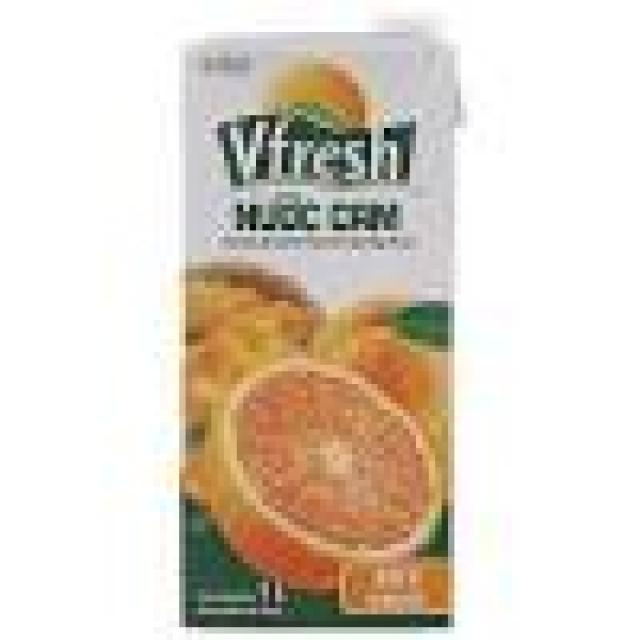non_white_jug: (19, 19, 563, 640)
